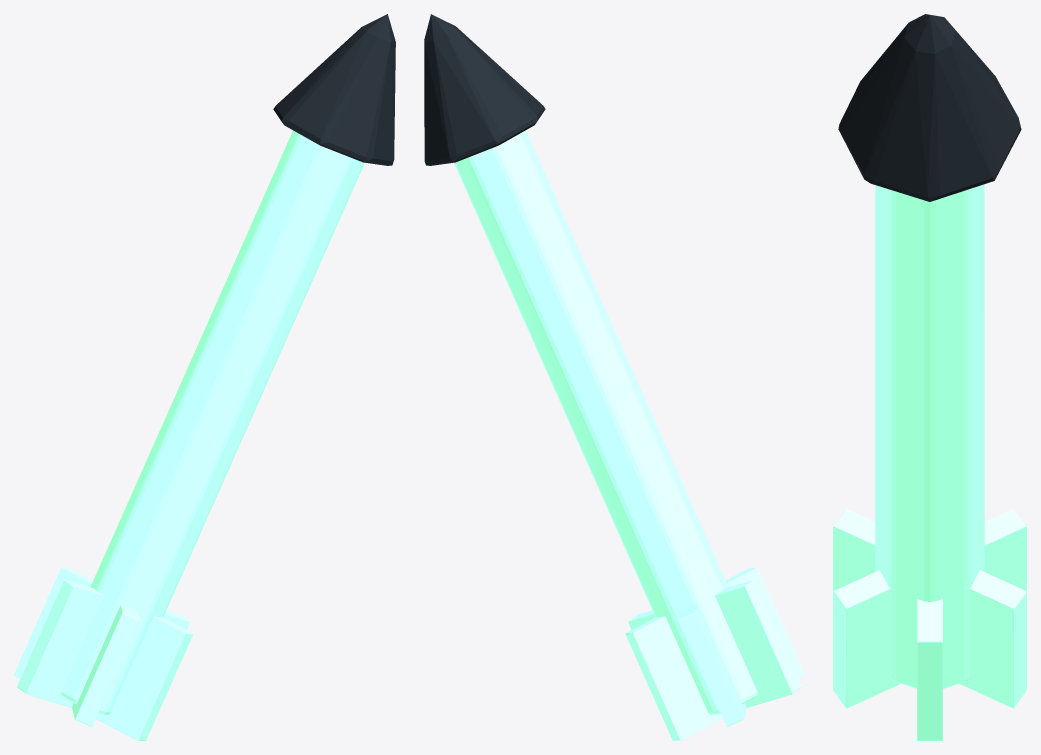
The model's file is item_purifiers.glb.
The picture shows the model from 3 angles, left to right: view 1: azimuth 30°, elevation 25°; view 2: azimuth 150°, elevation 25°; view 3: azimuth 270°, elevation 25°; orthographic projection. The views are drawn at different scales.
Visible parts, largest first — view 1: item_purifiers_part_0, item_purifiers_part_1, item_purifiers_part_4, item_purifiers_part_2, item_purifiers_part_3; view 2: item_purifiers_part_0, item_purifiers_part_1, item_purifiers_part_3, item_purifiers_part_2, item_purifiers_part_4; view 3: item_purifiers_part_0, item_purifiers_part_1, item_purifiers_part_3, item_purifiers_part_4, item_purifiers_part_2.
Part boxes in pixels (x1,y1,x2,y2): item_purifiers_part_0: (61,130,364,714); item_purifiers_part_1: (273,14,395,165); item_purifiers_part_4: (14,568,193,740); item_purifiers_part_2: (17,580,190,707); item_purifiers_part_3: (72,605,139,726); item_purifiers_part_0: (454,130,757,714); item_purifiers_part_1: (424,14,545,165); item_purifiers_part_3: (625,568,804,740); item_purifiers_part_2: (628,579,801,707); item_purifiers_part_4: (679,605,746,726); item_purifiers_part_0: (875,184,984,688); item_purifiers_part_1: (838,14,1021,201); item_purifiers_part_3: (833,509,1026,708); item_purifiers_part_4: (833,509,1026,708); item_purifiers_part_2: (917,599,942,740).
Size of the model in its own units: 0.7881 by 1.32 by 0.2596.
